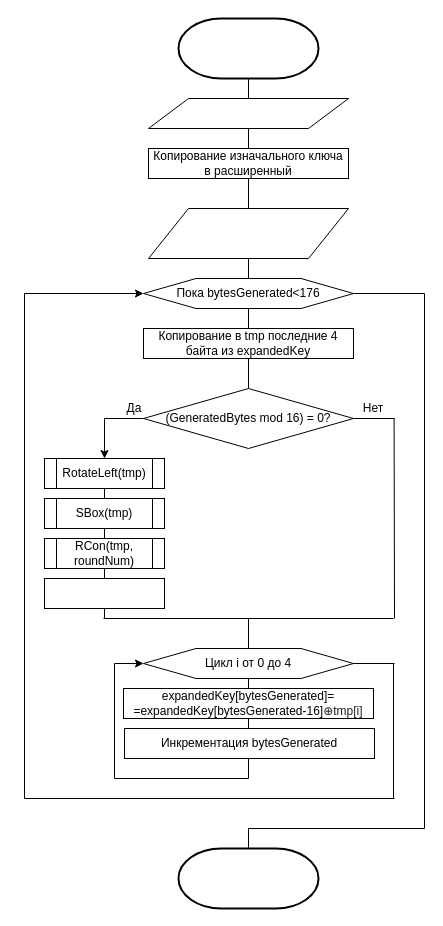
Some shapes in this 443 by 926 pixel diagram are drawn without their labels. Each missing label, with the centre of its shape:
"bytesGenerated=16; roundNum=1; tmp=array[4]" goes at point (248, 233).
"expandedKey=array[176]" goes at point (248, 113).
"Инкрементация roundNum" goes at point (104, 593).
"Конец" goes at point (248, 878).
"Начало" goes at point (248, 48).
